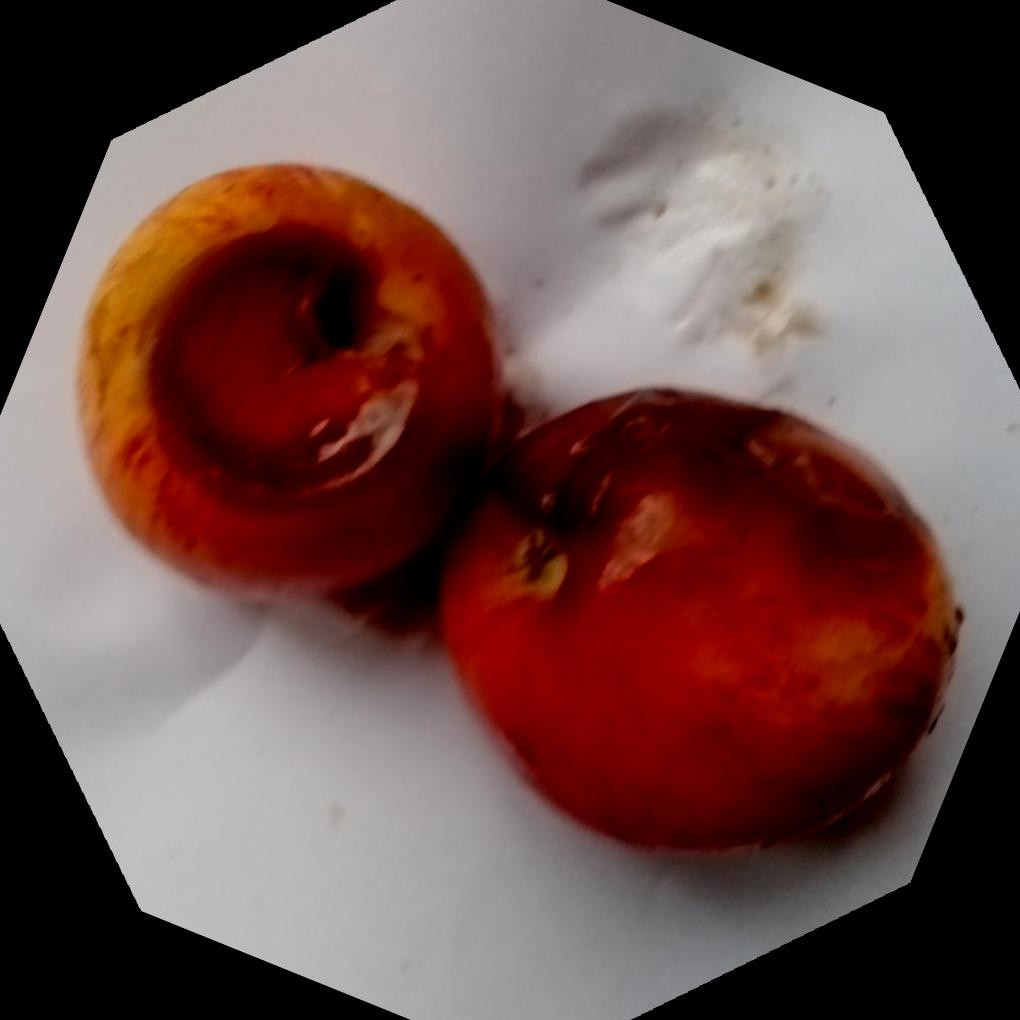FreshOrange: (74, 159, 963, 855)
